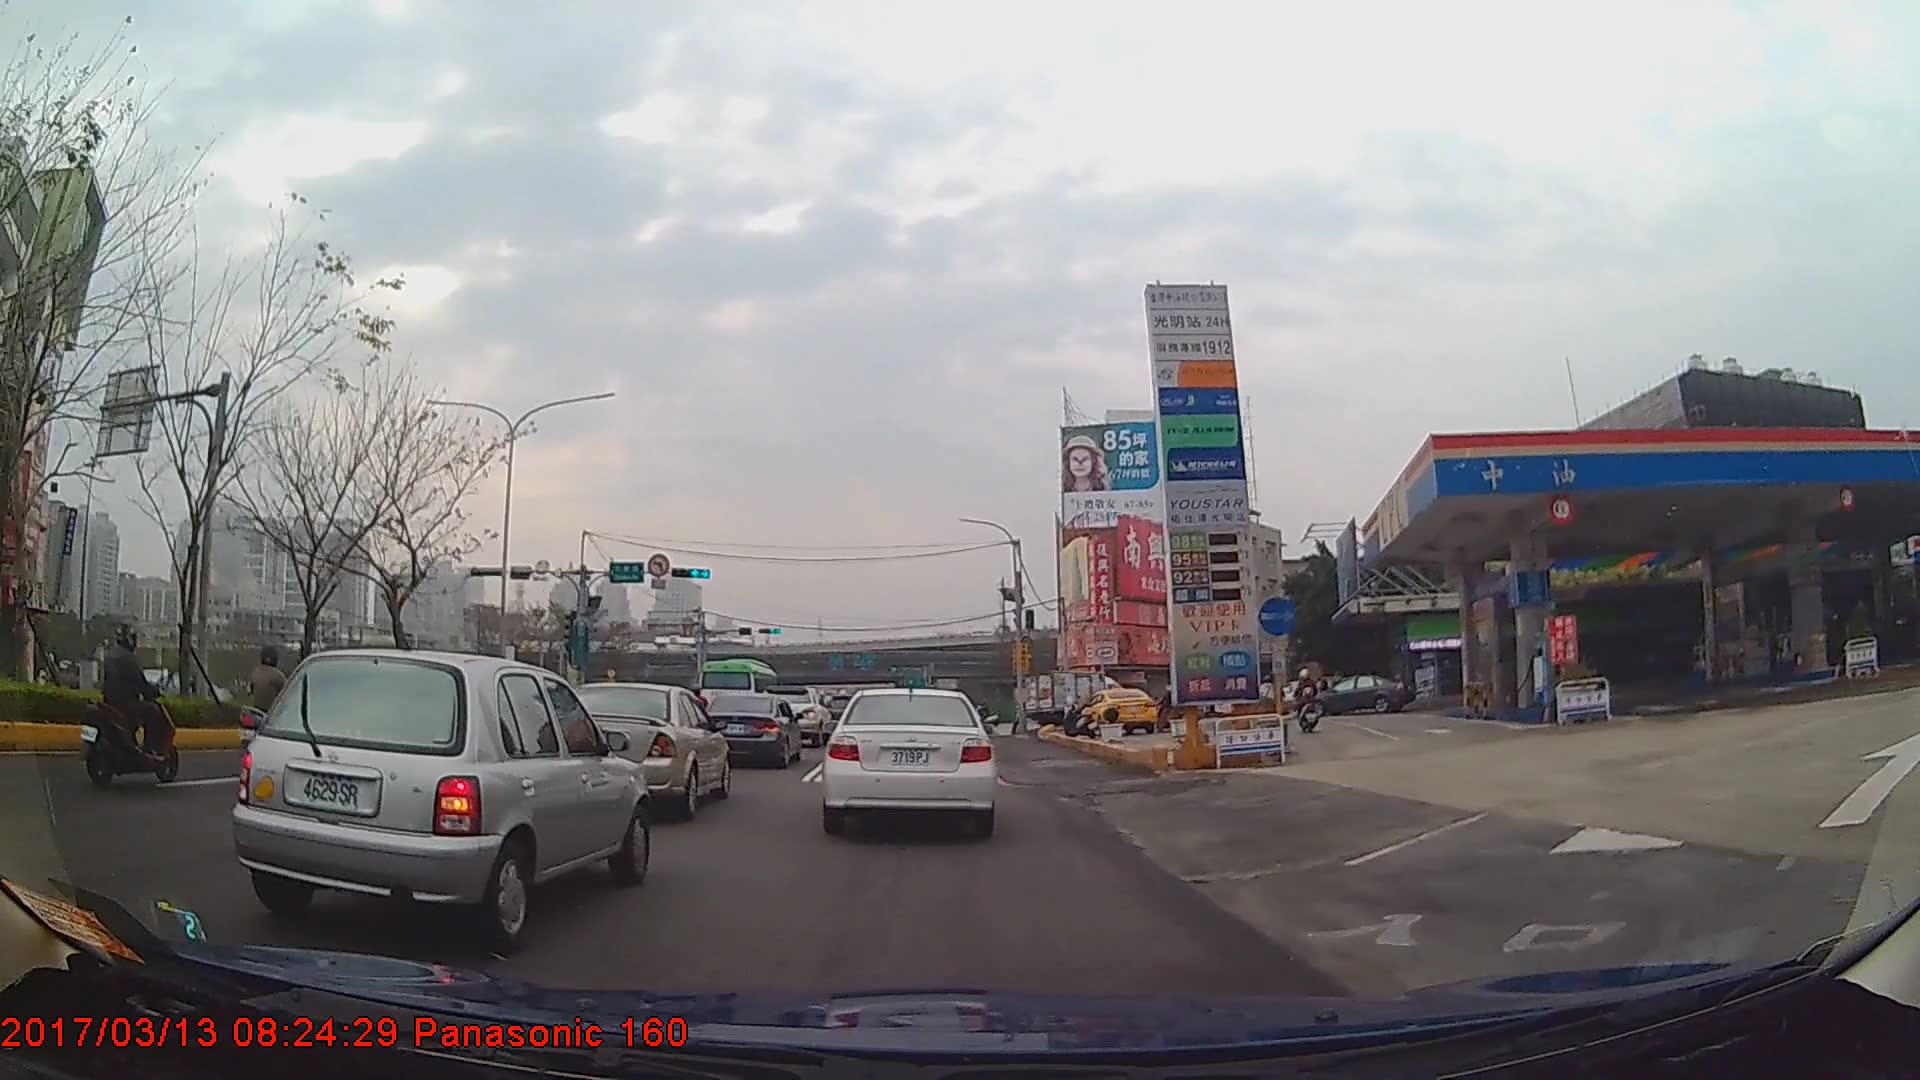rider: (80, 620, 175, 780), (1291, 668, 1321, 731), (1156, 684, 1186, 734), (1259, 674, 1279, 724)
vehicle: (227, 644, 654, 947), (825, 683, 994, 835), (555, 679, 730, 818), (697, 689, 805, 768), (1021, 667, 1125, 728), (695, 654, 780, 719), (757, 683, 832, 745), (1307, 673, 1410, 712), (1083, 684, 1157, 733)
